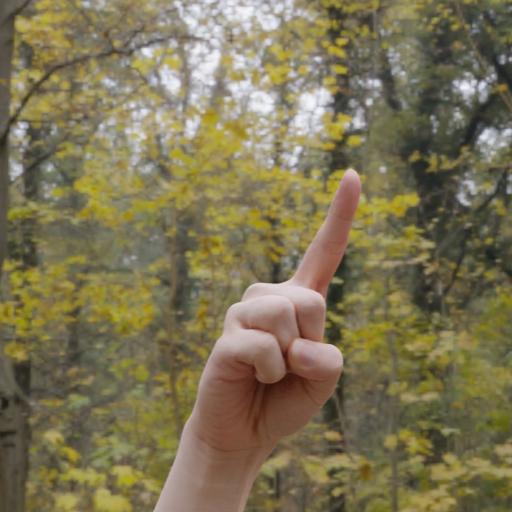Z: (173, 169, 367, 462)
